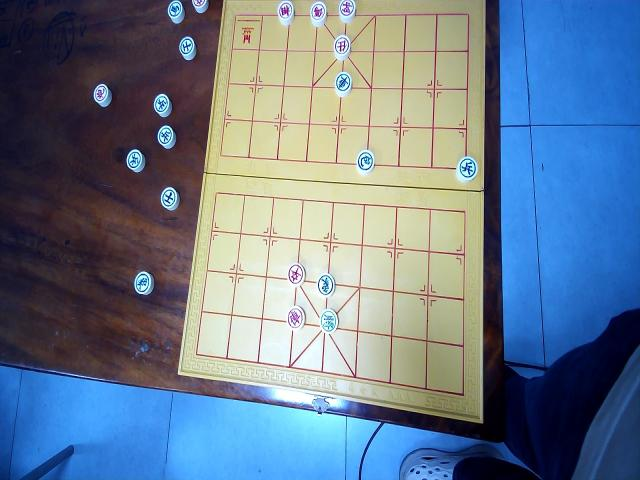piece: (456, 155, 478, 182), (355, 147, 374, 174), (134, 271, 154, 296), (92, 82, 111, 107), (160, 185, 179, 210), (126, 148, 145, 173), (333, 34, 351, 60), (286, 304, 304, 330), (334, 71, 352, 96), (319, 308, 337, 333), (157, 124, 175, 149), (309, 0, 326, 26), (316, 272, 334, 296), (154, 92, 172, 116), (276, 0, 293, 25), (179, 36, 196, 61), (338, 0, 355, 23), (287, 263, 304, 286), (167, 0, 184, 23), (191, 0, 208, 13)
